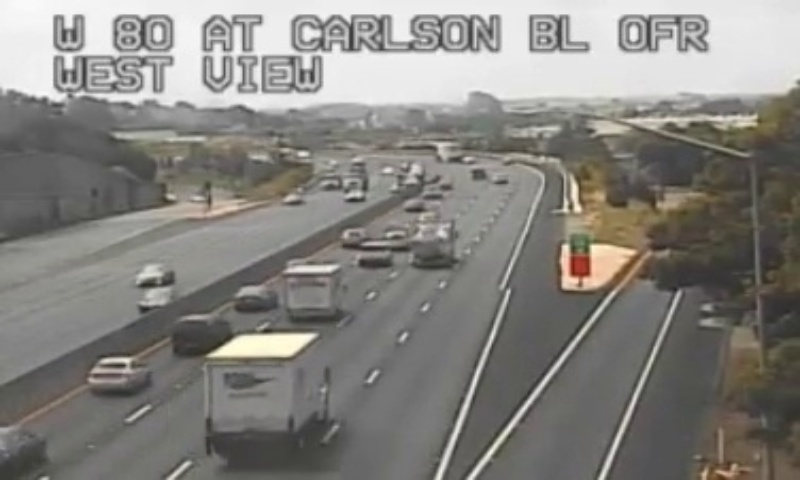car: (170, 313, 229, 353), (87, 357, 148, 391), (234, 285, 277, 312), (357, 241, 391, 267), (380, 229, 410, 249), (340, 227, 368, 247)
small-truck: (204, 332, 329, 461), (282, 263, 342, 319)
